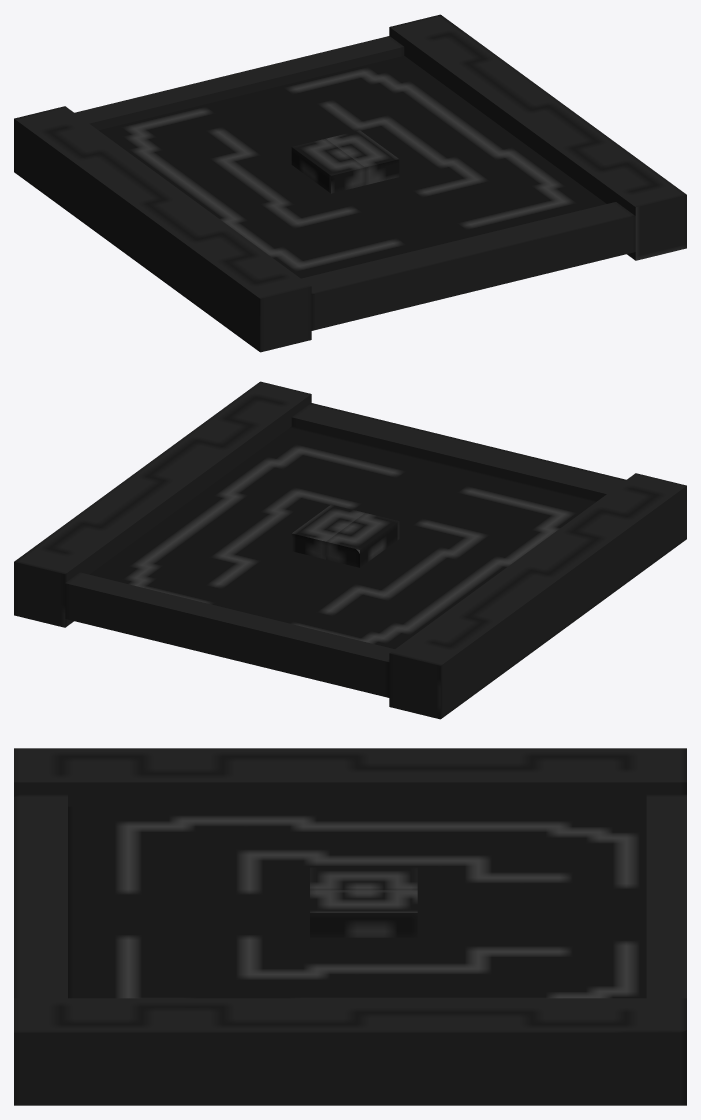
Rendered from 测试门.obj.
3 renders of one model, top to bottom at view 1: azimuth 30°, elevation 25°; view 2: azimuth 150°, elevation 25°; view 3: azimuth 270°, elevation 25°, orthographic. The views are drawn at different scales.
Visible parts, largest first — view 1: cube; view 2: cube; view 3: cube.
Boxes of the visible parts, bbox=[...] form: cube: bbox=[14, 14, 686, 352]; cube: bbox=[14, 381, 686, 719]; cube: bbox=[14, 748, 686, 1105].
Size of the model in its own units: 3.12 by 0.5312 by 3.12.
Materials: 1 (1 with a texture image).
